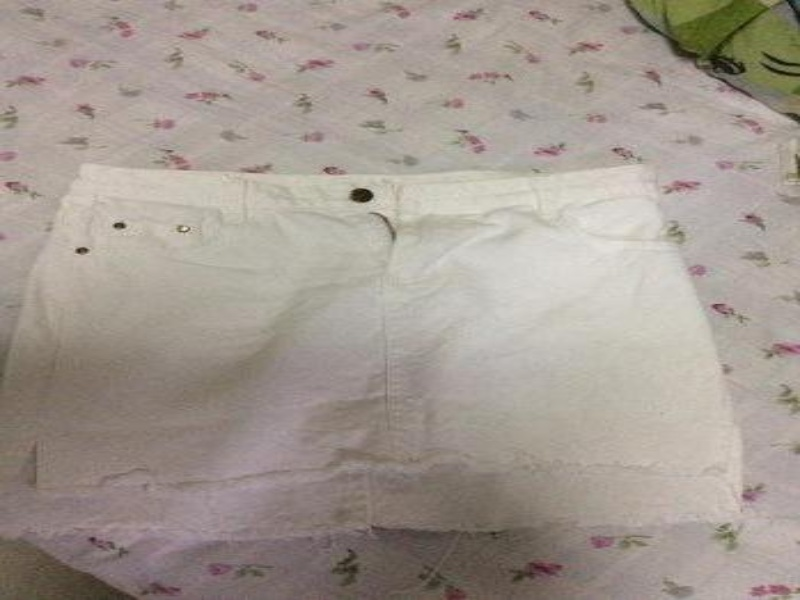skirt: (0, 162, 745, 545)
